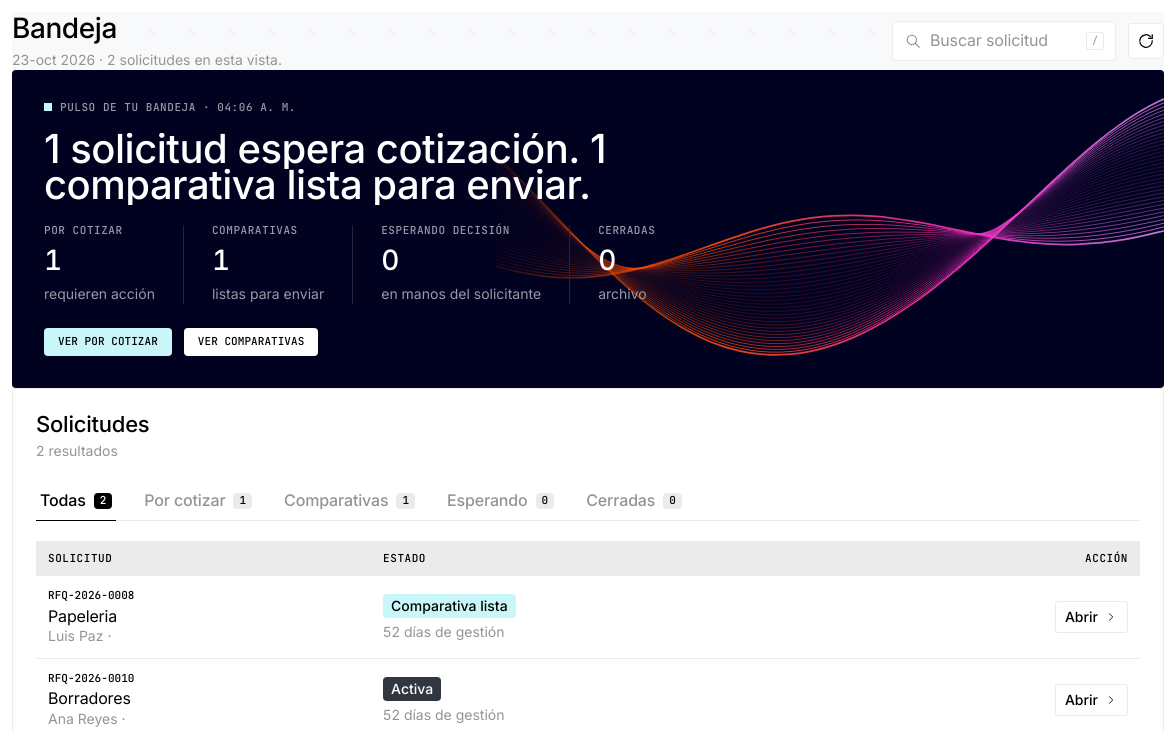
Panel del coordinador › P2-6 · una búsqueda sin resultados ofrece limpiar la búsqueda
The image size is (1176, 732).
Expected: the text "2 resultados" is shown, [36,442,118,459]
In the search field with placeholder "Buscar solicitud": (1004, 41) [930,30,1078,51], type "zzzz"
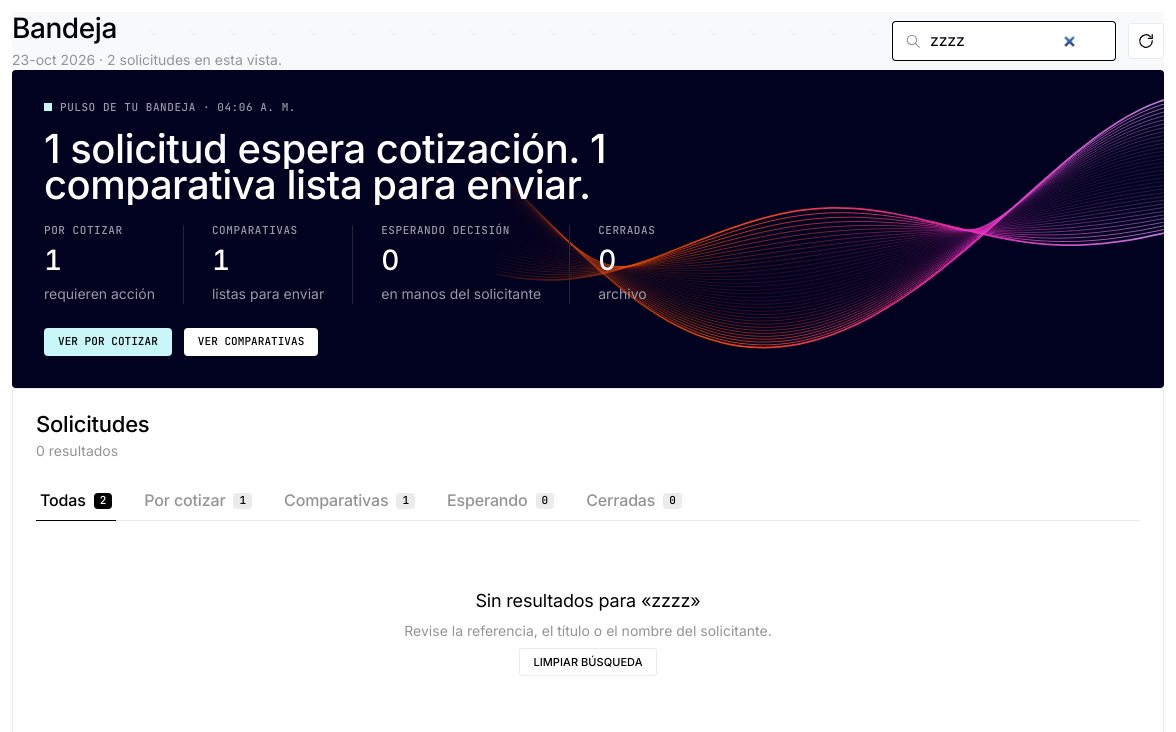
Now the text "Sin resultados para «zzzz»" is shown, box [475,589,700,613]
Now the text "0 resultados" is shown, box [36,442,118,459]
Click the button "Limpiar búsqueda": (588, 662) [520,648,657,676]
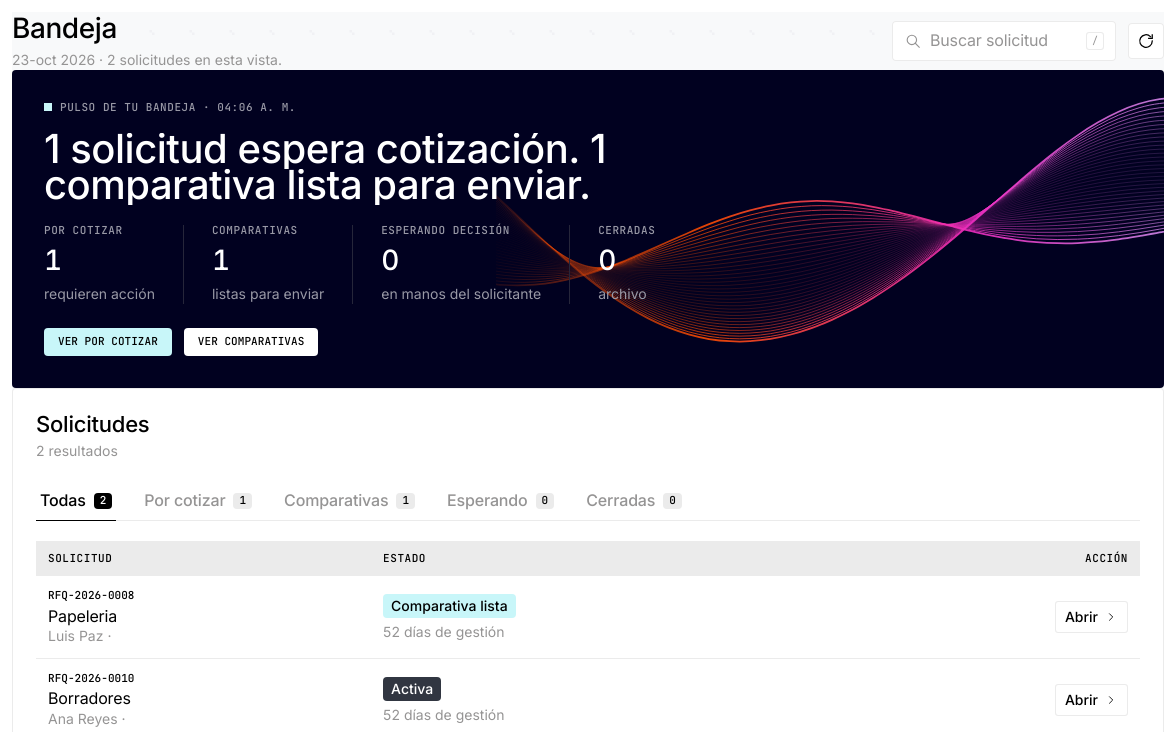
Now the text "2 resultados" is shown, box [36,442,118,459]
